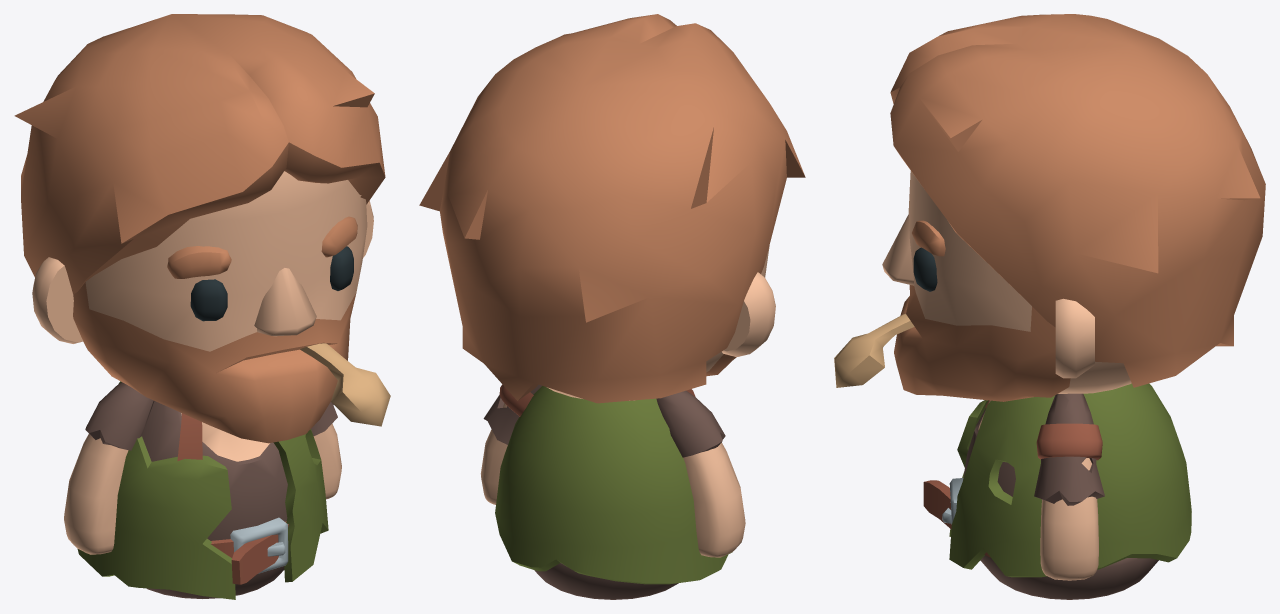
File: character_villager_male2.gltf
3 views of the same model, side by side, from view 1: azimuth 30°, elevation 25°; view 2: azimuth 150°, elevation 25°; view 3: azimuth 270°, elevation 25° (orthographic). The views are drawn at different scales.
Parts seen in each view (by area): view 1: character_villager_male2_head, character_villager_male2_body, character_villager_male2_armRight, straw, character_villager_male2_armLeft; view 2: character_villager_male2_head, character_villager_male2_body, character_villager_male2_armRight, character_villager_male2_armLeft; view 3: character_villager_male2_head, character_villager_male2_body, character_villager_male2_armLeft, straw.
Part boxes in pixels (x1,y1,x2,y2): character_villager_male2_head: [14, 14, 385, 443]; character_villager_male2_body: [77, 381, 328, 599]; character_villager_male2_armRight: [64, 382, 154, 554]; straw: [300, 343, 390, 426]; character_villager_male2_armLeft: [311, 402, 341, 499]; character_villager_male2_head: [419, 14, 805, 403]; character_villager_male2_body: [495, 386, 732, 599]; character_villager_male2_armRight: [656, 390, 745, 557]; character_villager_male2_armLeft: [480, 384, 541, 504]; character_villager_male2_head: [882, 14, 1265, 401]; character_villager_male2_body: [923, 383, 1191, 599]; character_villager_male2_armLeft: [1034, 393, 1104, 580]; straw: [834, 313, 914, 387].
Size of the model in its own units: 1.18 by 1.81 by 1.33.
